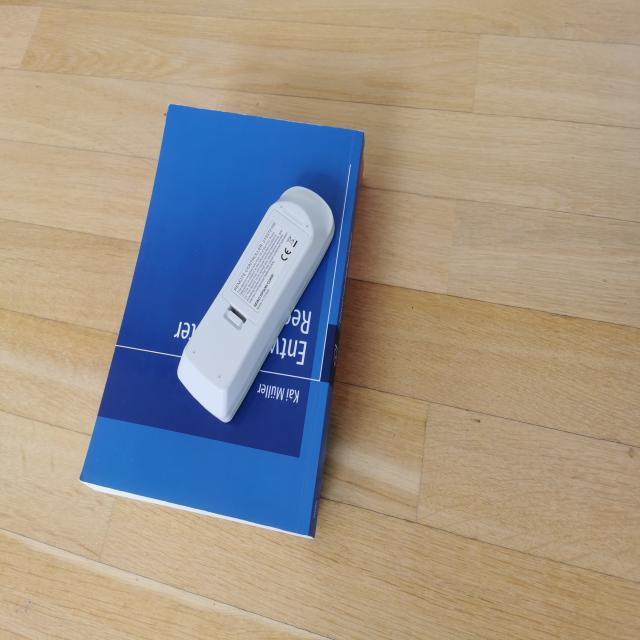remote: (178, 183, 334, 423)
